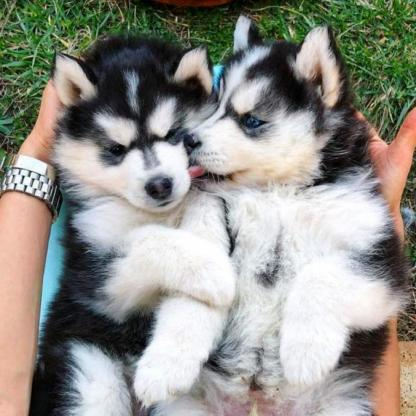dog: (187, 15, 404, 416), (35, 39, 232, 416)
